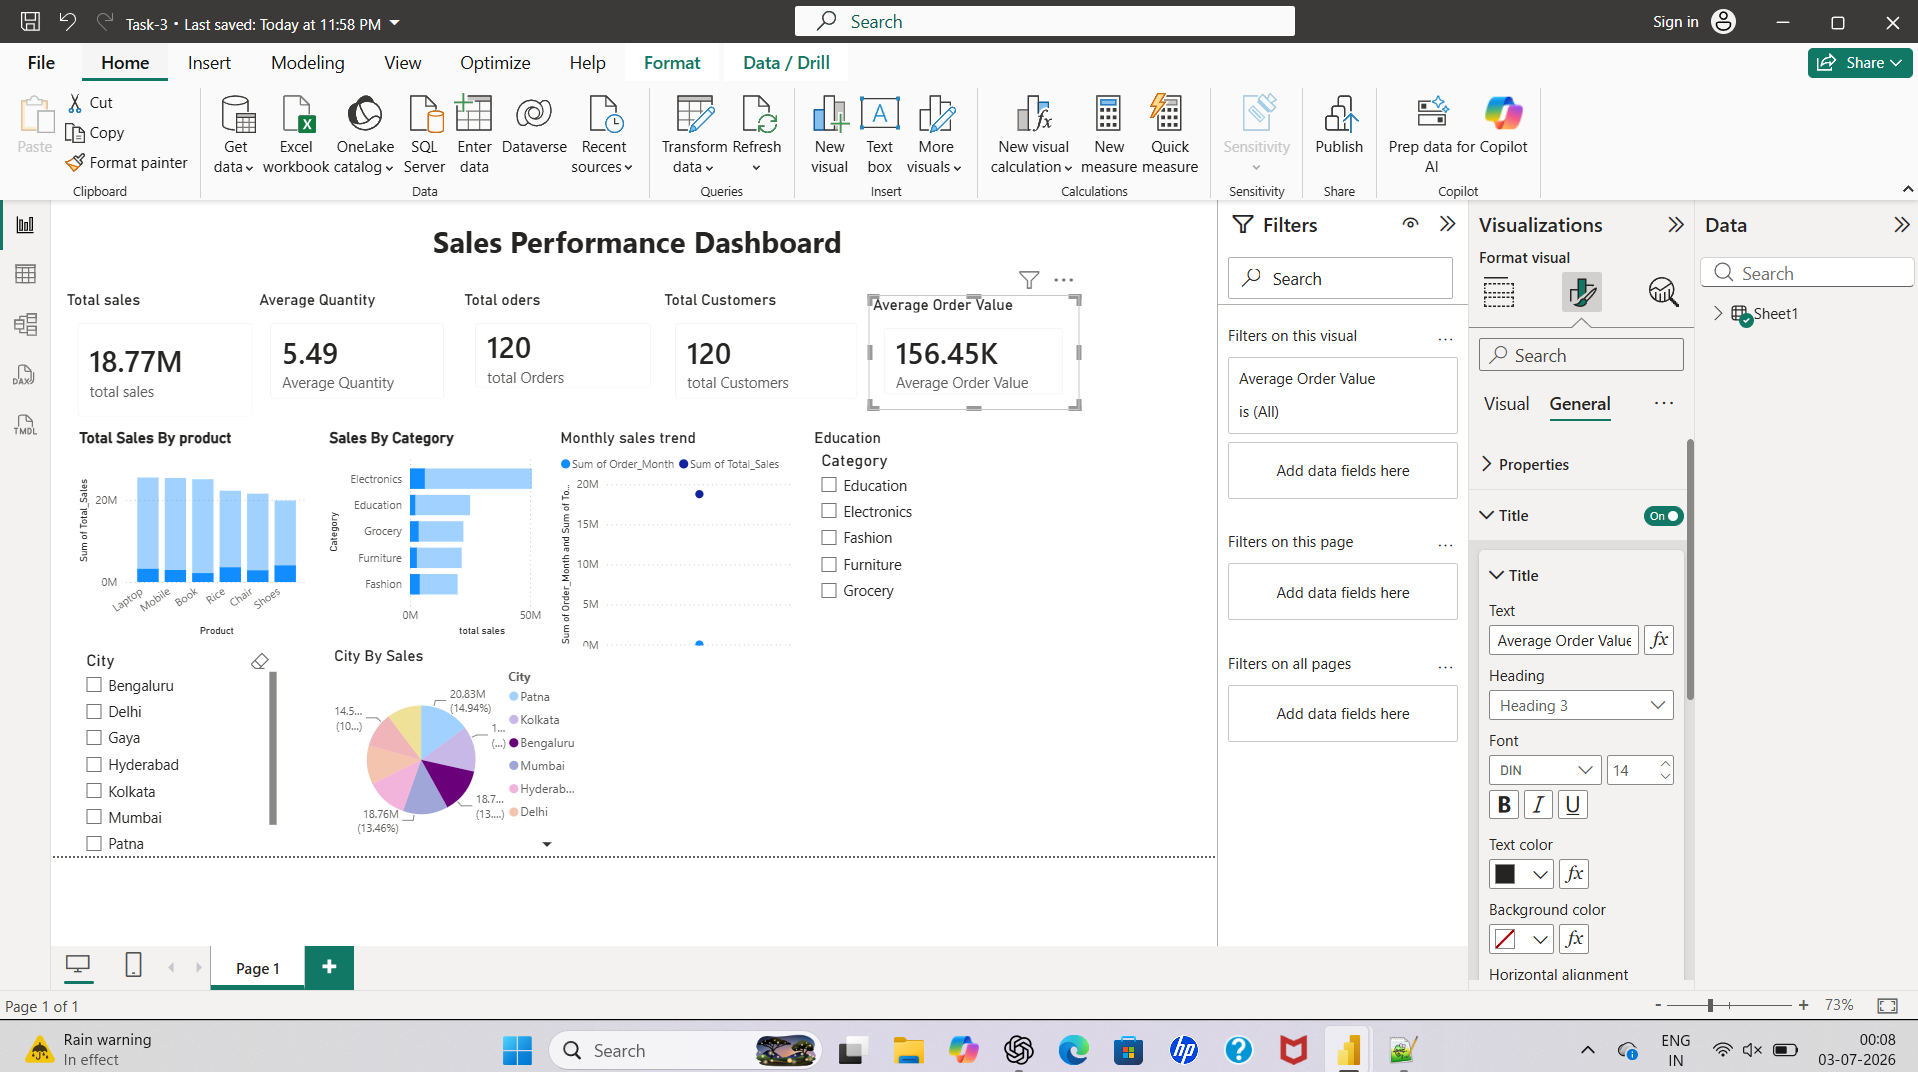

Layout of this report page (visuals, bound fields, positions):
{"tool":"powerbi","page":{"name":"Page 1","canvas":[1280,720],"ordinal":0},"visuals":[{"type":"cardVisual","title":"Total sales","fields":{"Data":["Sheet1.total sales"]},"box":[12.3,98.8,226.4,156.4],"z":0},{"type":"cardVisual","title":"Total oders","fields":{"Data":["Sheet1.total Orders"]},"box":[448.7,98.8,227.8,124.9],"z":1000},{"type":"cardVisual","title":"Total Customers","fields":{"Data":["Sheet1.total Customers"]},"box":[668.3,98.8,234.6,137.2],"z":2000},{"type":"cardVisual","title":"Average Quantity","fields":{"Data":["Sheet1.Average Quantity"]},"box":[223.7,98.8,225,137.2],"z":3000},{"type":"cardVisual","title":"Average Order Value","fields":{"Data":["Sheet1.Average Order Value"]},"box":[897.4,104.3,231.9,126.2],"z":4000},{"type":"clusteredBarChart","title":"Sales By Category","fields":{"Category":["Sheet1.Category"],"Y":["Sheet1.total sales"]},"box":[300.5,251.1,269,233.3],"z":5000},{"type":"clusteredColumnChart","title":"Total Sales By product","fields":{"Y":["Sum(Sheet1.Total_Sales)"],"Category":["Sheet1.Product"]},"box":[26.1,251.1,260.7,233.3],"z":6000},{"type":"slicer","fields":{"Values":["Sheet1.Category"]},"box":[832.9,251.1,258,260.7],"z":7000},{"type":"slicer","fields":{"Values":["Sheet1.City"]},"box":[26.1,489.9,226.4,230.5],"z":8000},{"type":"lineChart","title":"Monthly sales trend","fields":{"Y":["Sum(Sheet1.Order_Month)","Sum(Sheet1.Total_Sales)"]},"box":[554.4,251.1,263.5,251.1],"z":9000},{"type":"pieChart","title":"City By Sales","fields":{"Category":["Sheet1.City"],"Y":["Sum(Sheet1.Total_Sales)"]},"box":[306,489.9,284,230.5],"z":10000},{"type":"textbox","box":[414.4,19.2,507.7,68.6],"z":11000}]}

Visuals, with their boxes on the page's 1280x720 design canvas (x1, y1, x2, y2). These are canvas units, not pixel positions in the 1918x1072 screenshot, which may show the page scaled, cropped or inside an application window:
"Total sales" cardVisual: locate(12, 99, 239, 255)
"Total oders" cardVisual: locate(449, 99, 676, 224)
"Total Customers" cardVisual: locate(668, 99, 903, 236)
"Average Quantity" cardVisual: locate(224, 99, 449, 236)
"Average Order Value" cardVisual: locate(897, 104, 1129, 230)
"Sales By Category" clusteredBarChart: locate(300, 251, 570, 484)
"Total Sales By product" clusteredColumnChart: locate(26, 251, 287, 484)
slicer - Sheet1.Category: locate(833, 251, 1091, 512)
slicer - Sheet1.City: locate(26, 490, 252, 720)
"Monthly sales trend" lineChart: locate(554, 251, 818, 502)
"City By Sales" pieChart: locate(306, 490, 590, 720)
textbox: locate(414, 19, 922, 88)
